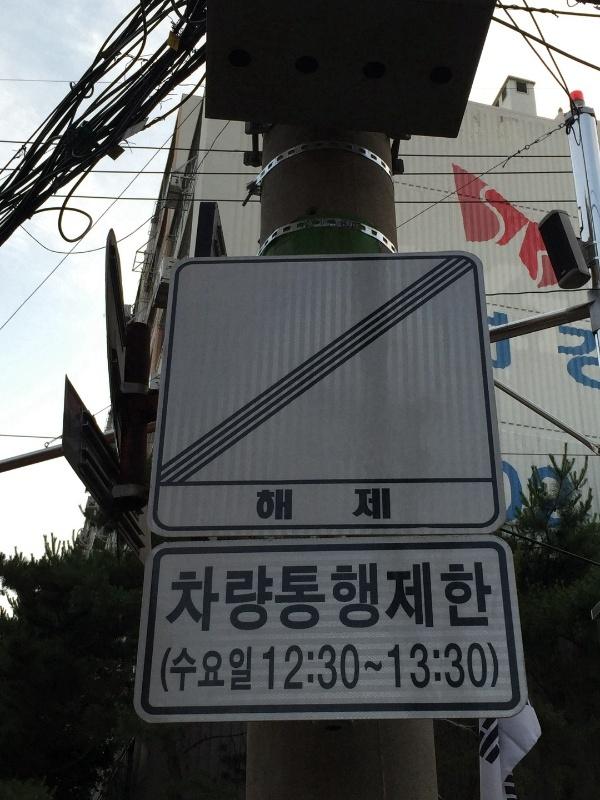text: (177, 558, 192, 639), (193, 558, 208, 639), (209, 558, 224, 639), (225, 558, 240, 639), (241, 558, 256, 639), (257, 558, 272, 639), (273, 558, 288, 639), (289, 558, 304, 639), (305, 558, 320, 639), (321, 558, 336, 639), (337, 558, 352, 639), (353, 558, 368, 639), (369, 558, 384, 639), (385, 558, 400, 639), (401, 558, 416, 639), (417, 558, 432, 639), (433, 558, 448, 639), (449, 558, 464, 639), (465, 558, 480, 639), (481, 558, 496, 639), (561, 319, 576, 396), (577, 319, 592, 396), (513, 461, 528, 534), (529, 461, 544, 534), (545, 461, 560, 534), (561, 461, 576, 534), (177, 637, 192, 697), (193, 637, 208, 697), (209, 637, 224, 697), (225, 637, 240, 697), (241, 637, 256, 697), (257, 637, 272, 697), (273, 637, 288, 697), (289, 637, 304, 697), (305, 637, 320, 697), (321, 637, 336, 697), (337, 637, 352, 697), (353, 637, 368, 697), (369, 637, 384, 697), (385, 637, 400, 697), (401, 637, 416, 697), (417, 637, 432, 697), (433, 637, 448, 697), (449, 637, 464, 697), (465, 637, 480, 697), (481, 637, 496, 697), (501, 461, 512, 534), (163, 637, 176, 697), (168, 558, 176, 639), (257, 487, 272, 522), (273, 487, 288, 522), (289, 487, 304, 522), (305, 487, 320, 522), (321, 487, 336, 522), (337, 487, 352, 522), (353, 487, 368, 522), (369, 487, 384, 522), (593, 319, 599, 396), (497, 637, 503, 697), (385, 487, 392, 522), (558, 319, 560, 396), (497, 558, 498, 639), (577, 461, 578, 534)
